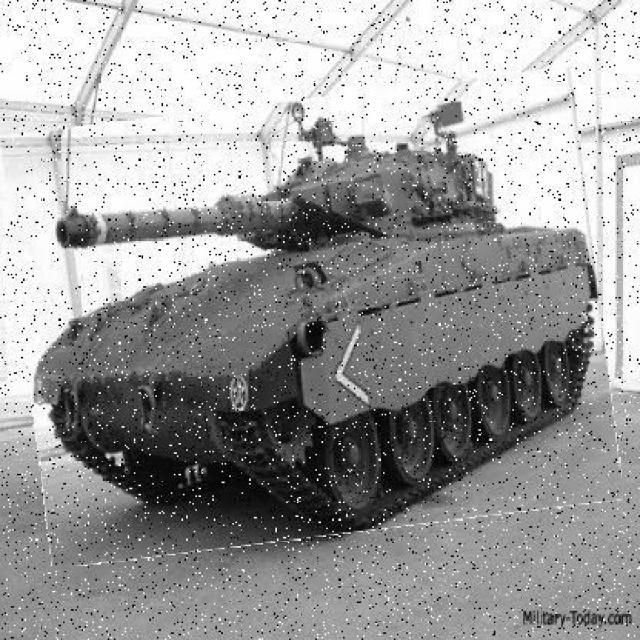Tank: (14, 84, 614, 553)
